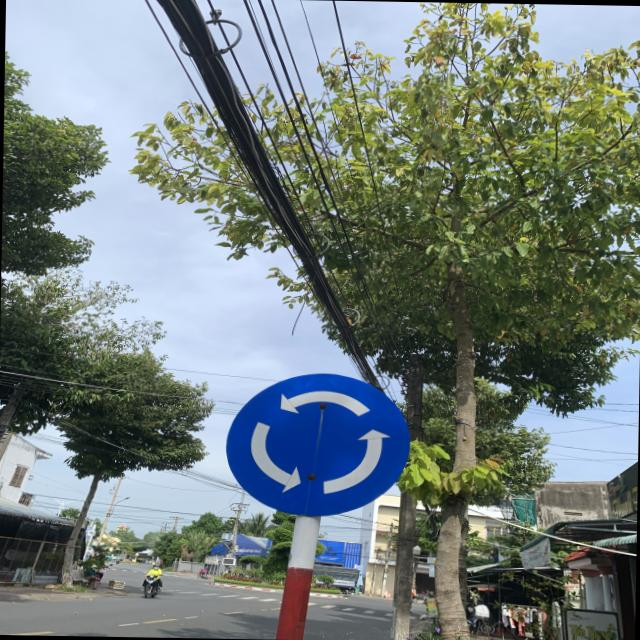Xe_Bus: (222, 372, 411, 520)
